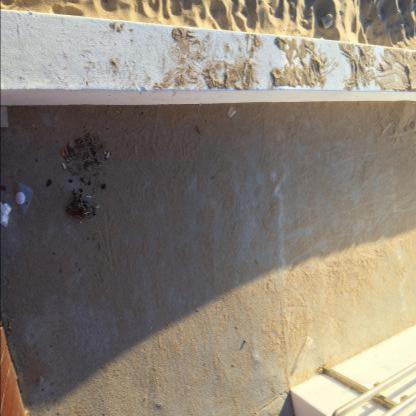Cigarette: (62, 163, 66, 169), (106, 153, 109, 160), (116, 109, 120, 114), (61, 150, 64, 156), (89, 155, 93, 159), (8, 322, 10, 329), (65, 149, 67, 155), (69, 141, 71, 146), (61, 152, 63, 156), (198, 104, 202, 106), (104, 152, 106, 156)
Cup: (228, 107, 236, 118), (306, 336, 313, 346)
Paper: (1, 200, 11, 228)
Plastic bag - wrapper: (1, 171, 34, 214)
